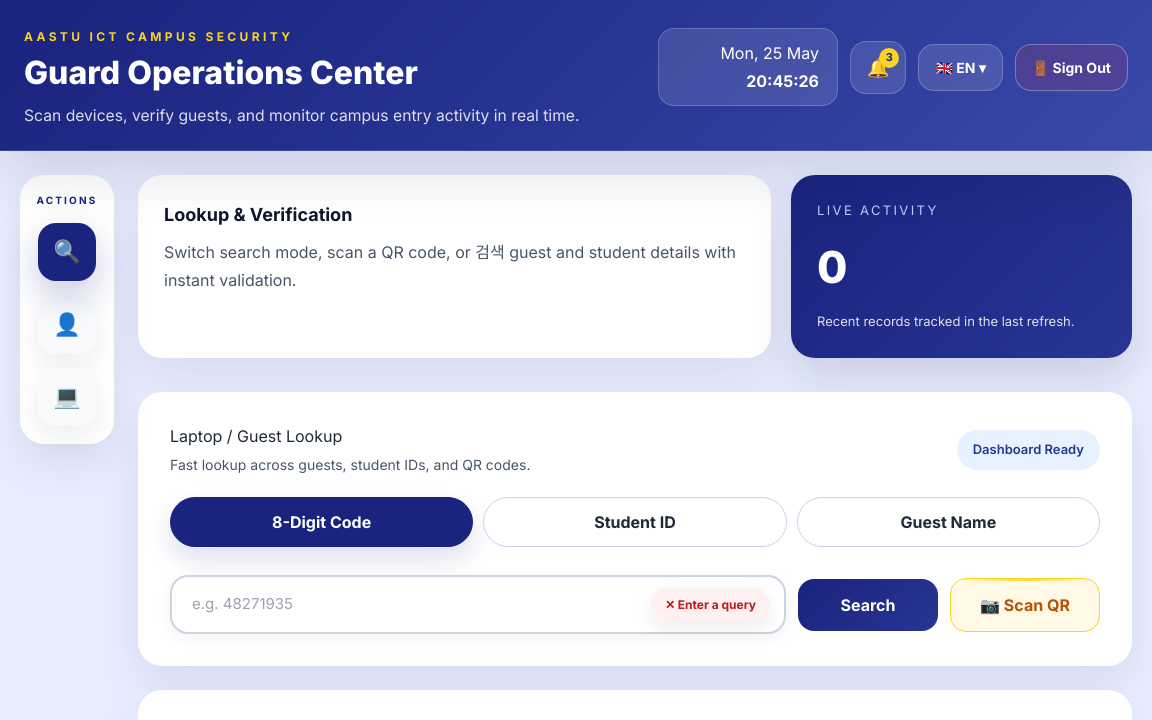
Scenario: GuardDashboard › renders laptop details after successful lookup
In the field with placeholder "e.g. 48271935": [478, 605] box [170,575,786,634], type "12345678"
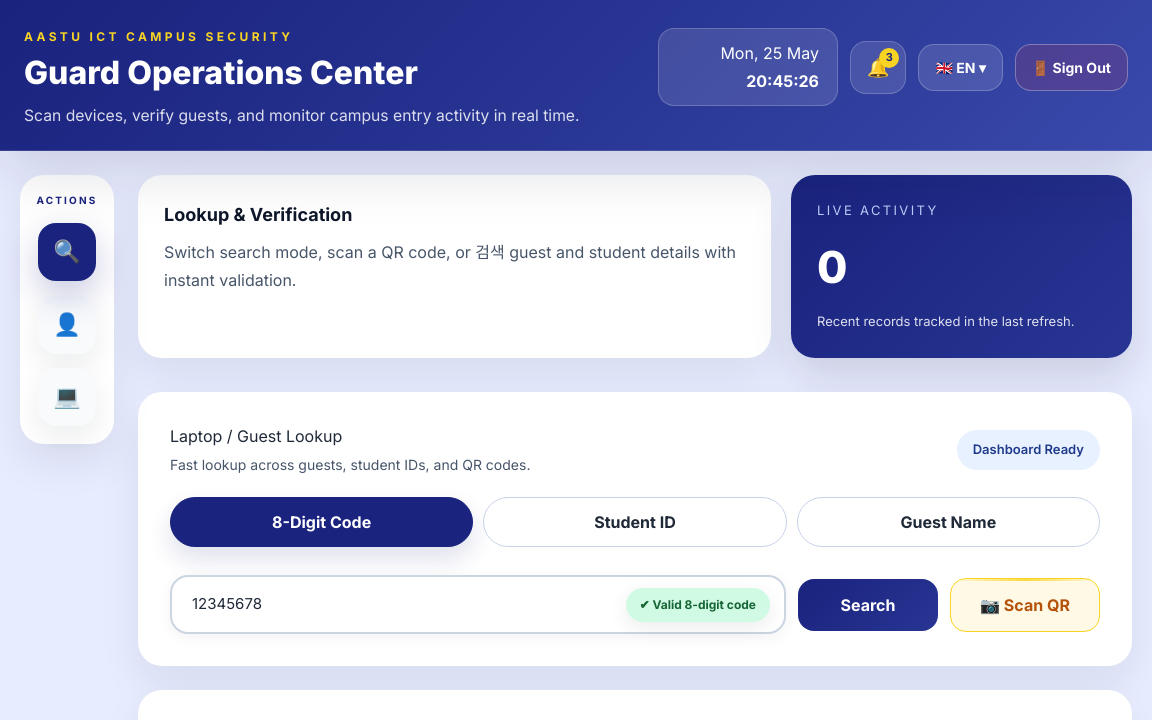
Click the button "Search": [868, 605] box [798,579,938,631]
(page scrolled)
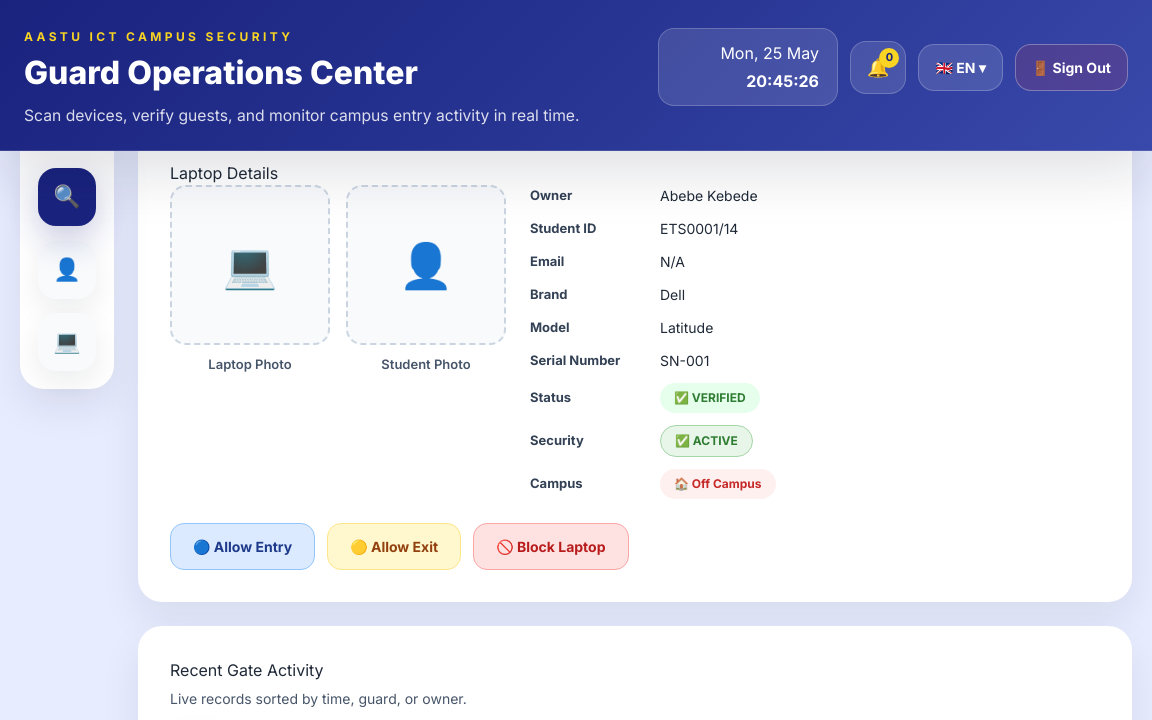
Now the text "Abebe Kebede" is shown, box [660,185,758,206]
Now the text "ETS0001/14" is shown, box [660,218,738,239]
Now the text "Dell" is shown, box [660,284,685,305]
